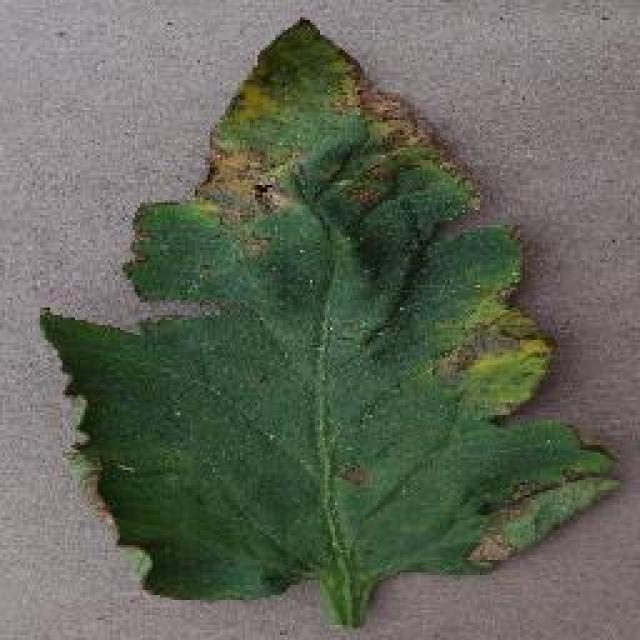bacterial spot: (40, 11, 623, 623)
